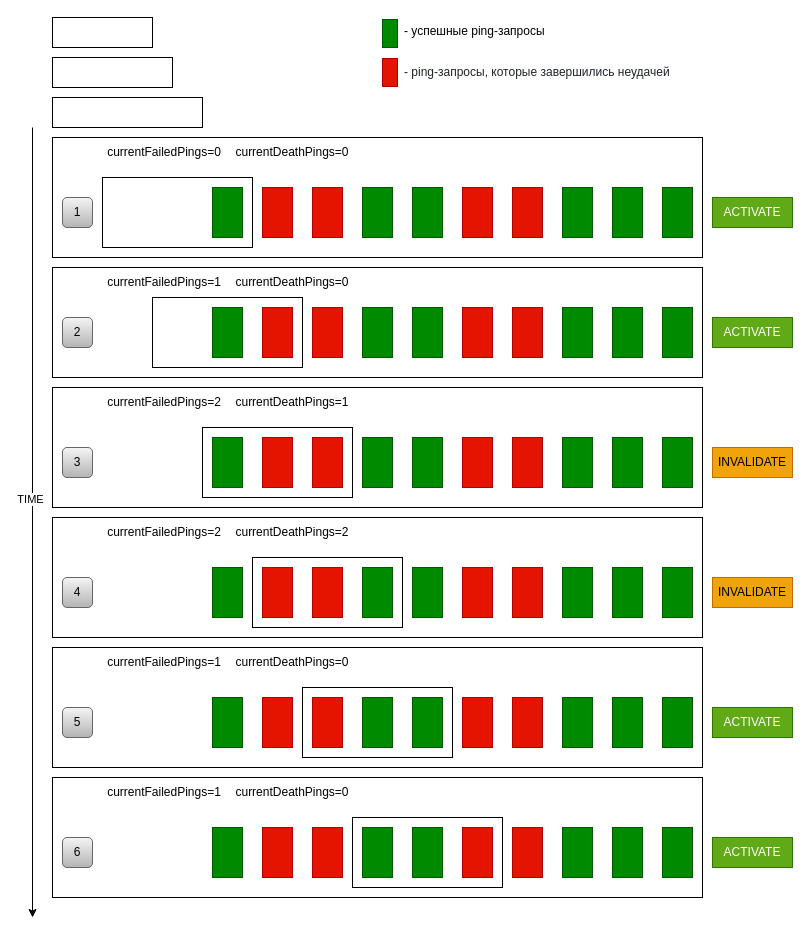
Image size: 810x943. Some labels were removed from this diagram. Each missing label, with the centre of its shape:
"deathThreshold=4" goes at [112,72].
"invalidationThreshold=2" goes at [127,112].
"windowSize=3" goes at [102,32].
